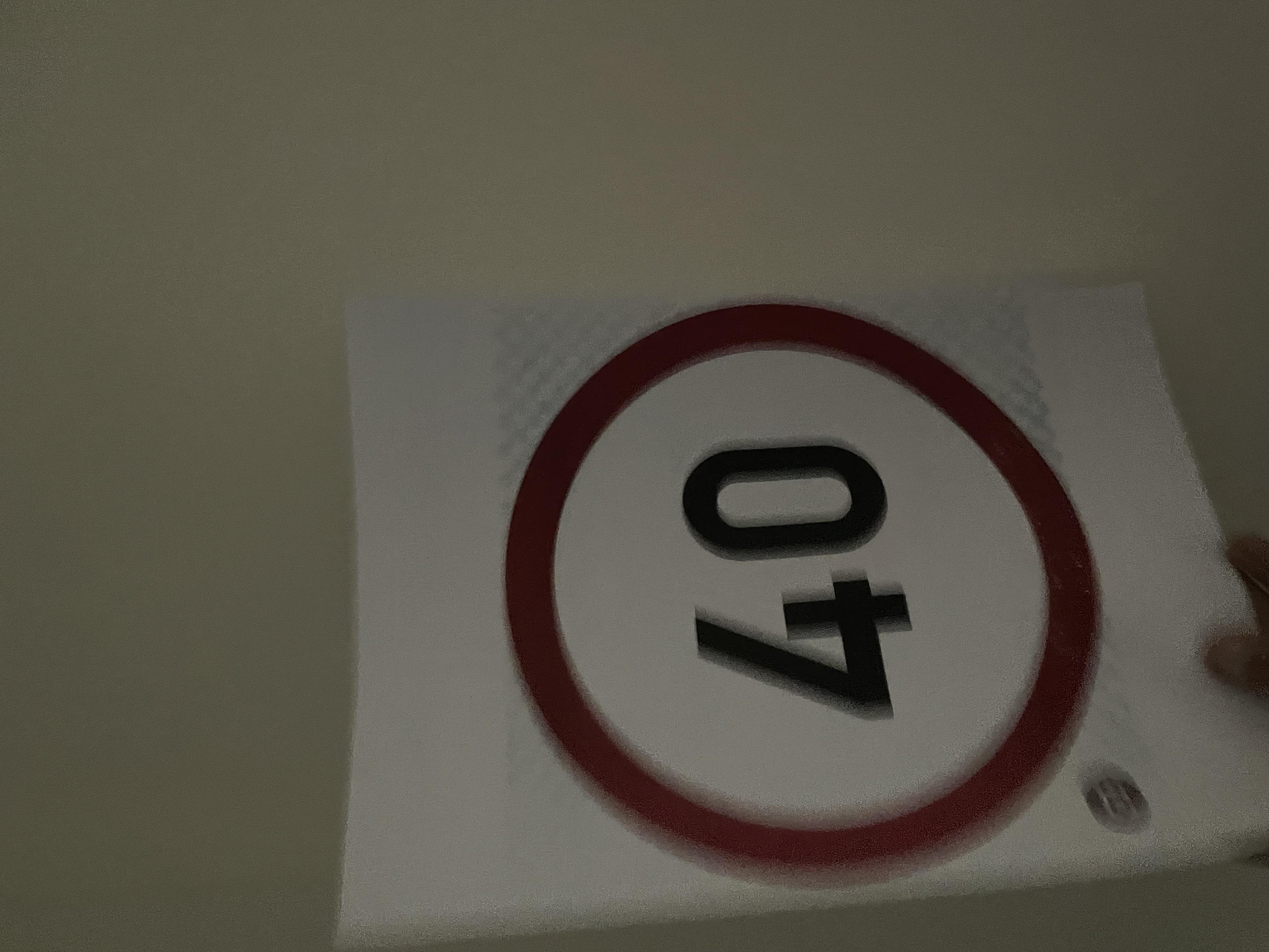40-Speed: (85, 374, 865, 821)
